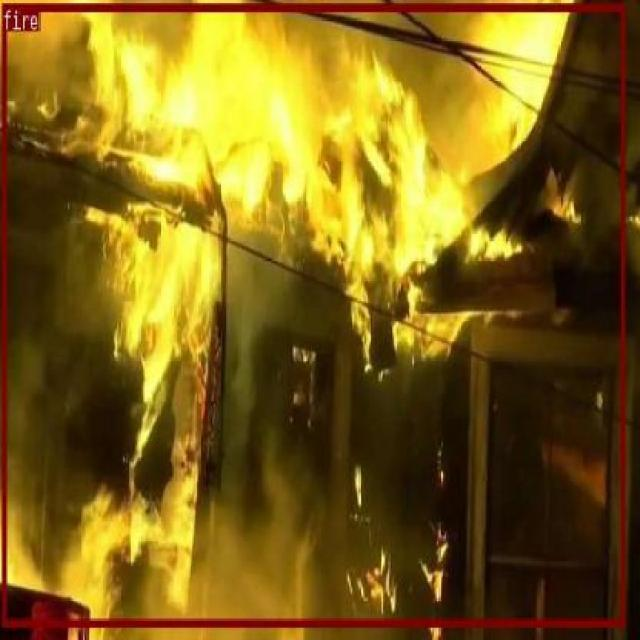Fire: (2, 2, 624, 626)
